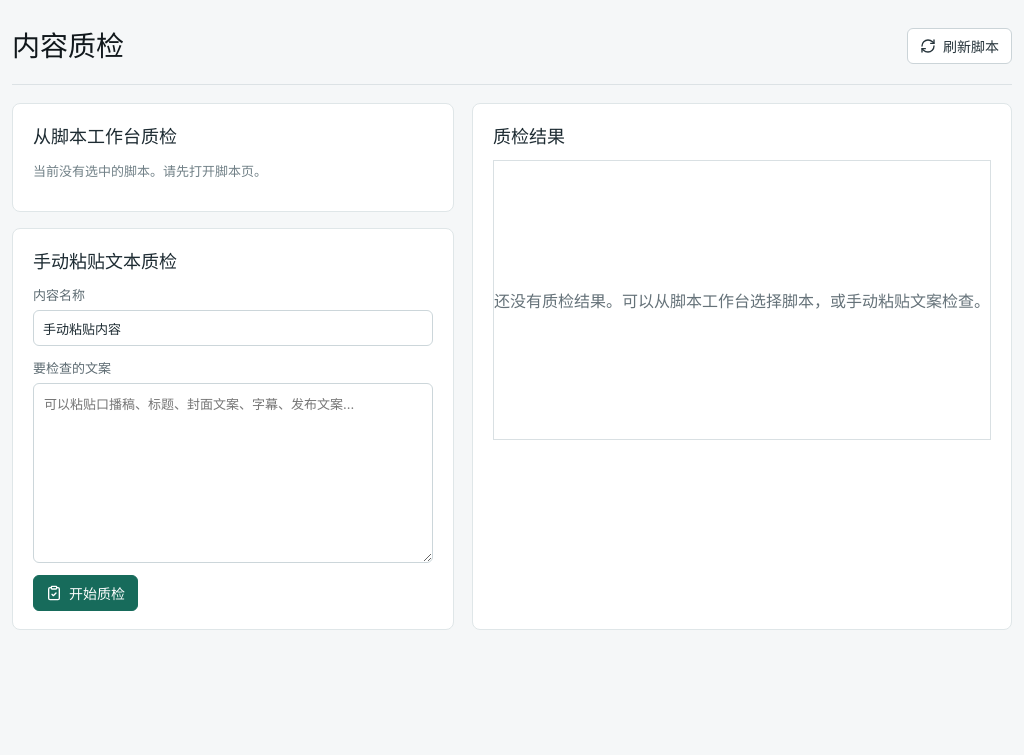
Test: 内容质检页面 › 能展示风险、收藏价值、问题和建议
The width and height of the screenshot is (1024, 755).
Type "显而易见，这就是财富密码。" into the text box labelled "要检查的文案".
click(233, 473); type("显而易见，这就是财富密码。")  # box [33,383,433,563]
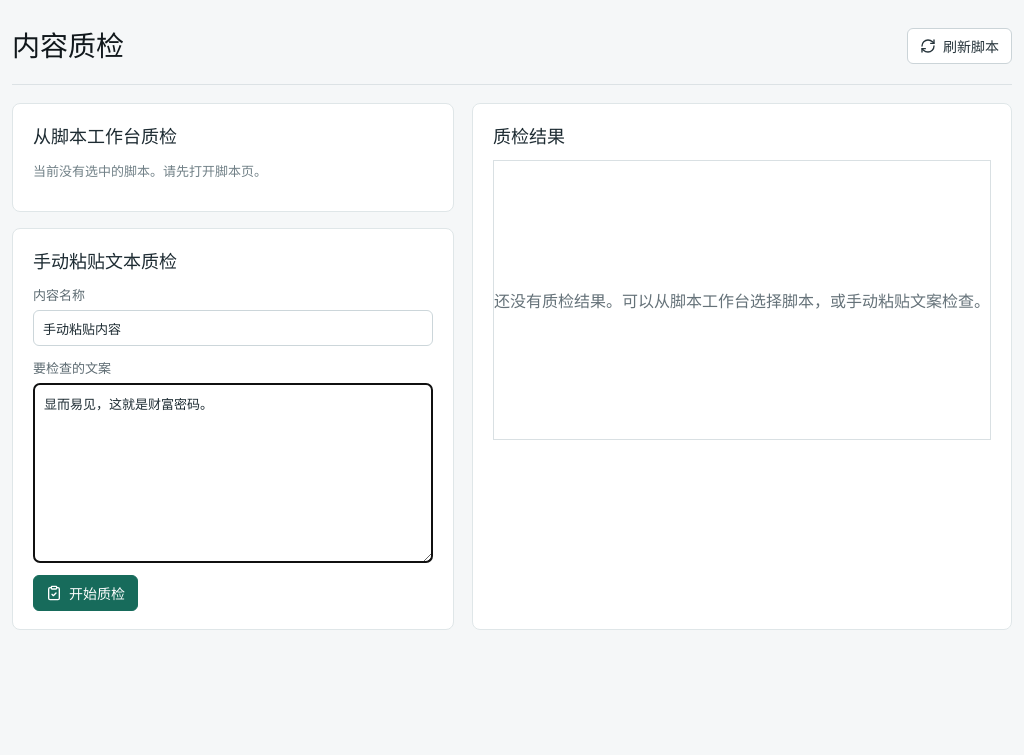
Click the button "开始质检".
click(86, 593)  # box [33,575,138,611]
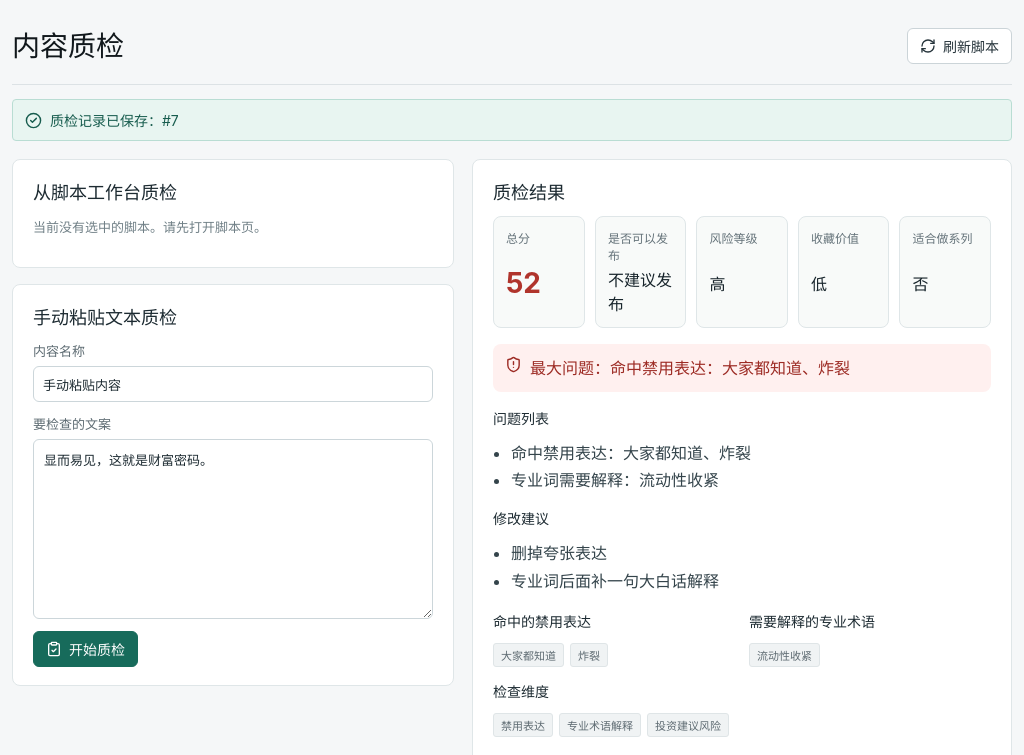
Now the text "总分" is shown, box [506,231,530,246]
Now the text "风险等级" is shown, box [709,231,757,246]
Now the text "收藏价值" is shown, box [811,231,859,246]
